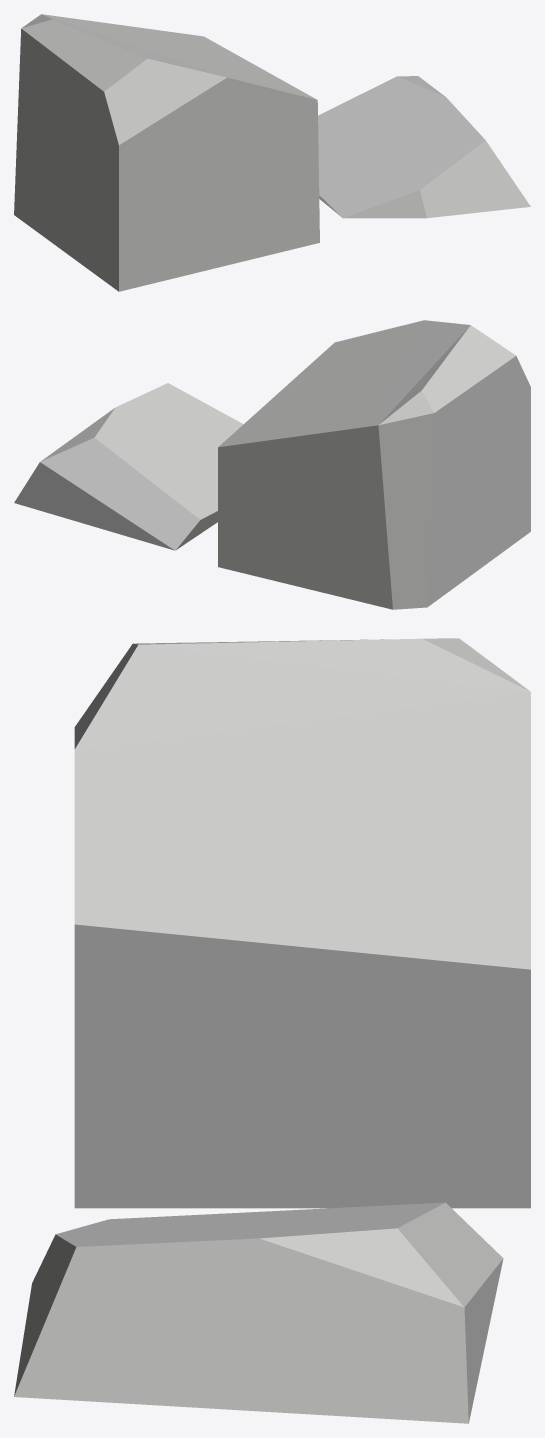
Rendered from Rock_Block_crk_m_05.fbx.
The picture shows the model from 3 angles, top to bottom: view 1: azimuth 30°, elevation 25°; view 2: azimuth 150°, elevation 25°; view 3: azimuth 270°, elevation 25°; orthographic projection. The views are drawn at different scales.
Visible parts, largest first — view 1: Rock_Block_crk_m_05; view 2: Rock_Block_crk_m_05; view 3: Rock_Block_crk_m_05.
Boxes of the visible parts, x1,y1,x2,y2 form: Rock_Block_crk_m_05: [14, 14, 530, 291]; Rock_Block_crk_m_05: [14, 320, 530, 609]; Rock_Block_crk_m_05: [14, 638, 530, 1423].
Size of the model in its own units: 148 by 70.3 by 79.28.
